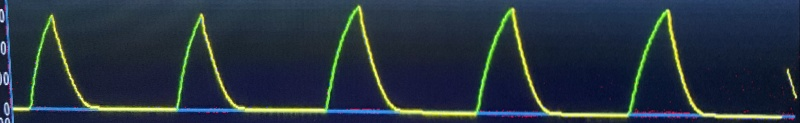normal_volume: (22, 0, 775, 123)
